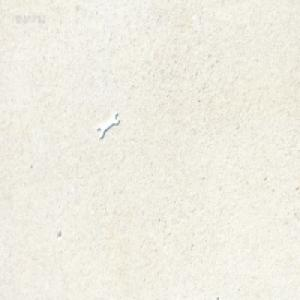Wrench: (96, 110, 118, 138)
